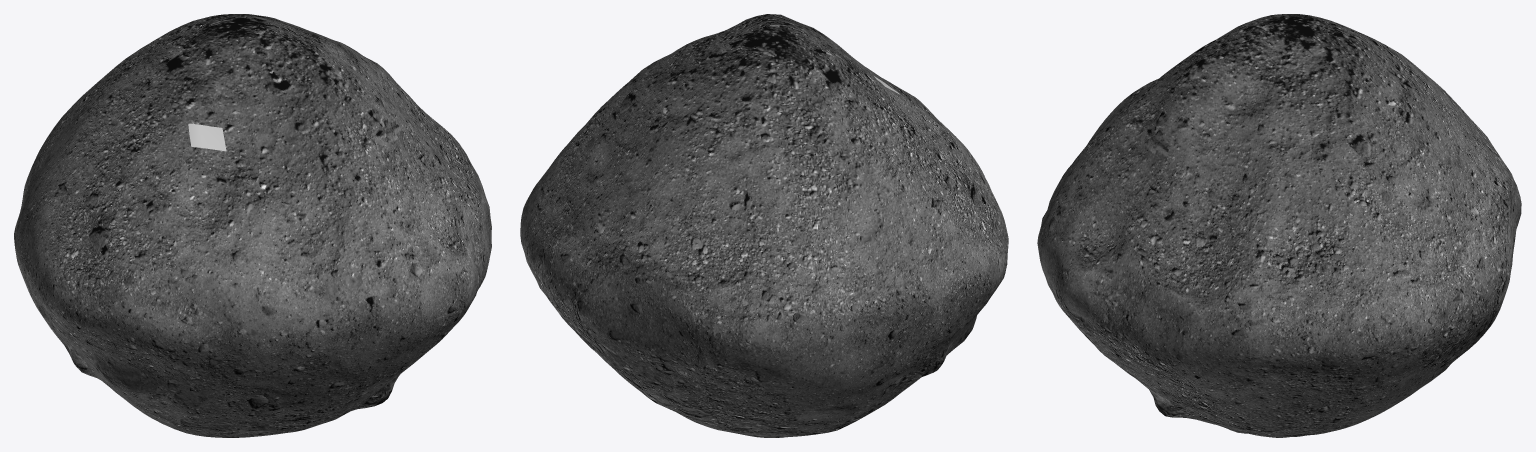
Rendered from Bennu.gltf.
The picture shows the model from 3 angles, left to right: view 1: azimuth 30°, elevation 25°; view 2: azimuth 150°, elevation 25°; view 3: azimuth 270°, elevation 25°; orthographic projection. The views are drawn at different scales.
Parts seen in each view (by area): view 1: Bennu; view 2: Bennu; view 3: Bennu.
Boxes of the visible parts, bbox=[...] form: Bennu: bbox=[14, 14, 491, 437]; Bennu: bbox=[520, 14, 1008, 437]; Bennu: bbox=[1037, 14, 1521, 437].
Size of the model in its own units: 552 by 489 by 534.
